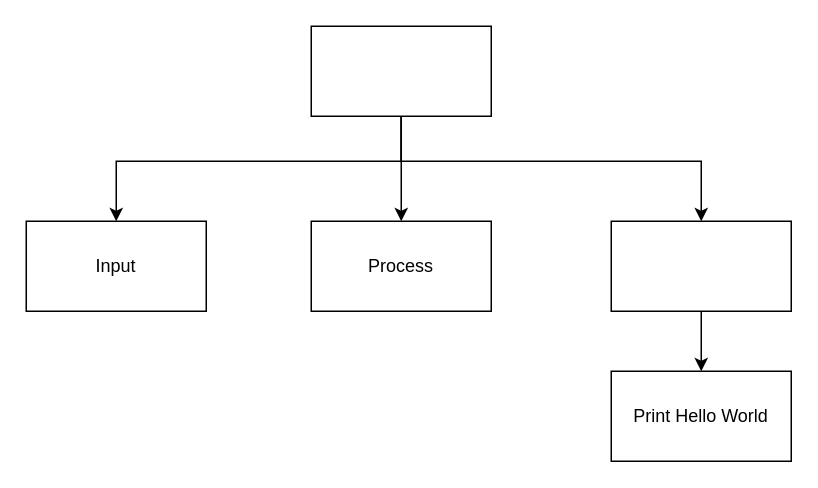
Some shapes in this 818 by 488 pixel diagram are drawn without their labels. The shapes that lost their labels are listed below. From the top down, each one's centre as x and y in pixels, then its label:
point 400,70: Hello World Program
point 700,265: Output
